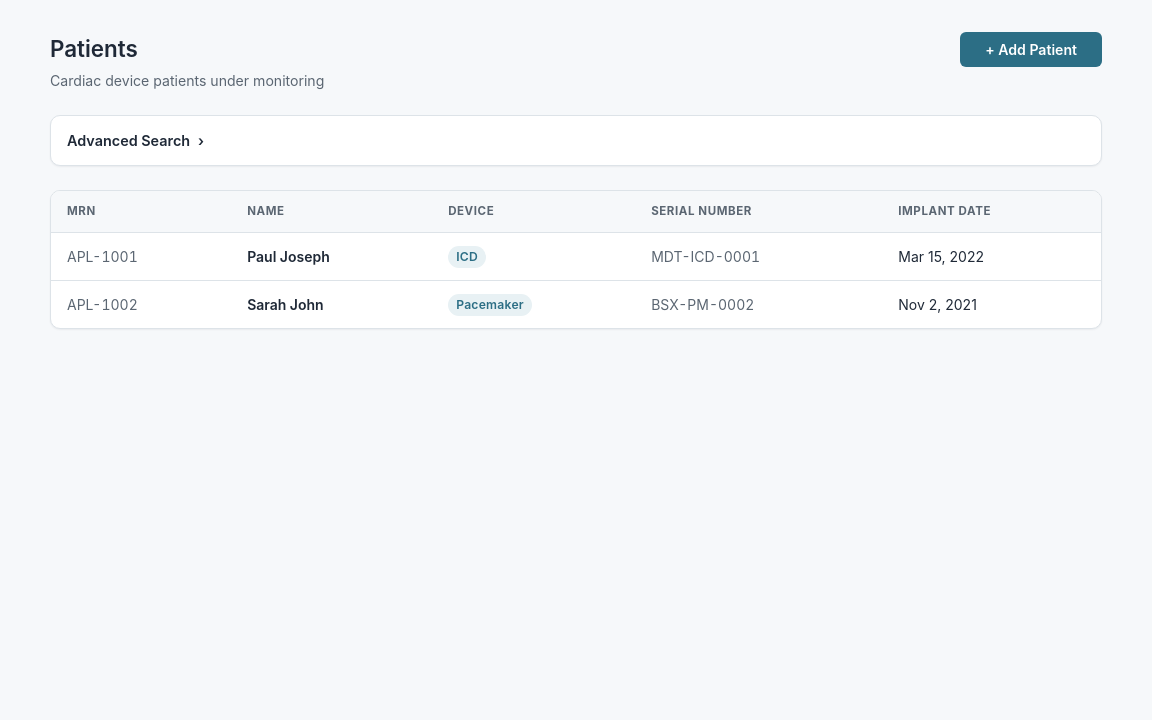
Test: PatientsListComponent › the Advanced Search panel is collapsed by default and expands on toggle click
Click the button with class "advanced-search__toggle": (129, 140) [51,116,1101,165]
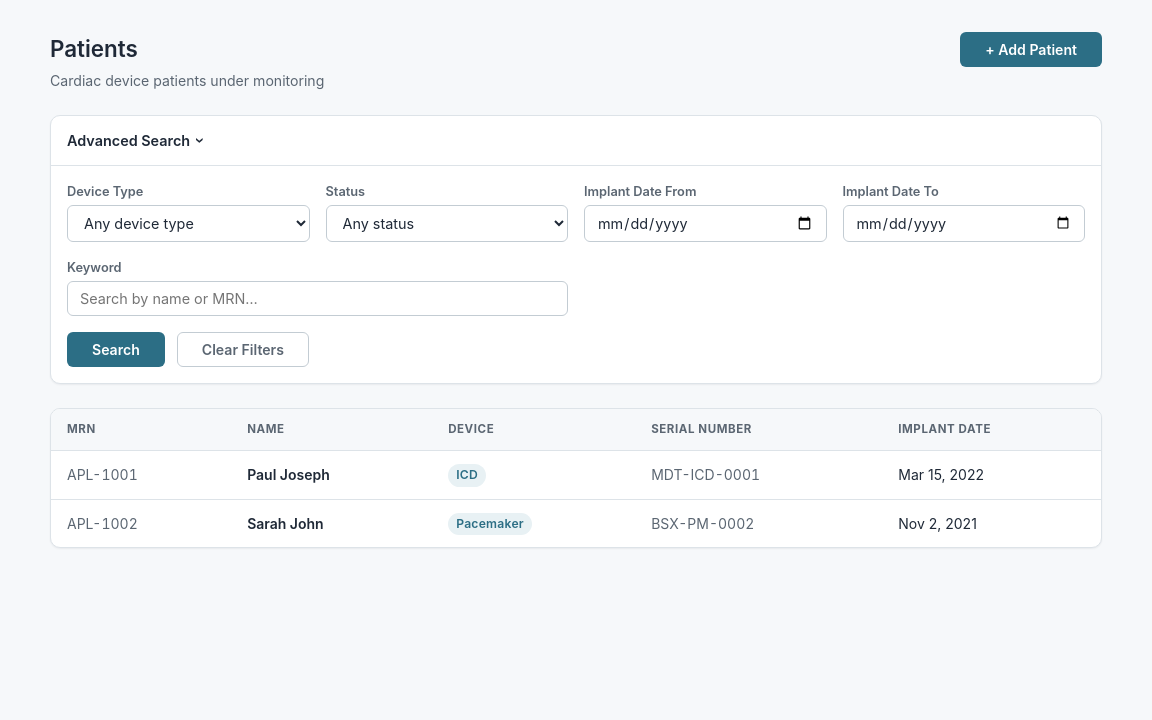
expect the form with class "advanced-search__form" is shown: met, box [51,165,1101,383]
